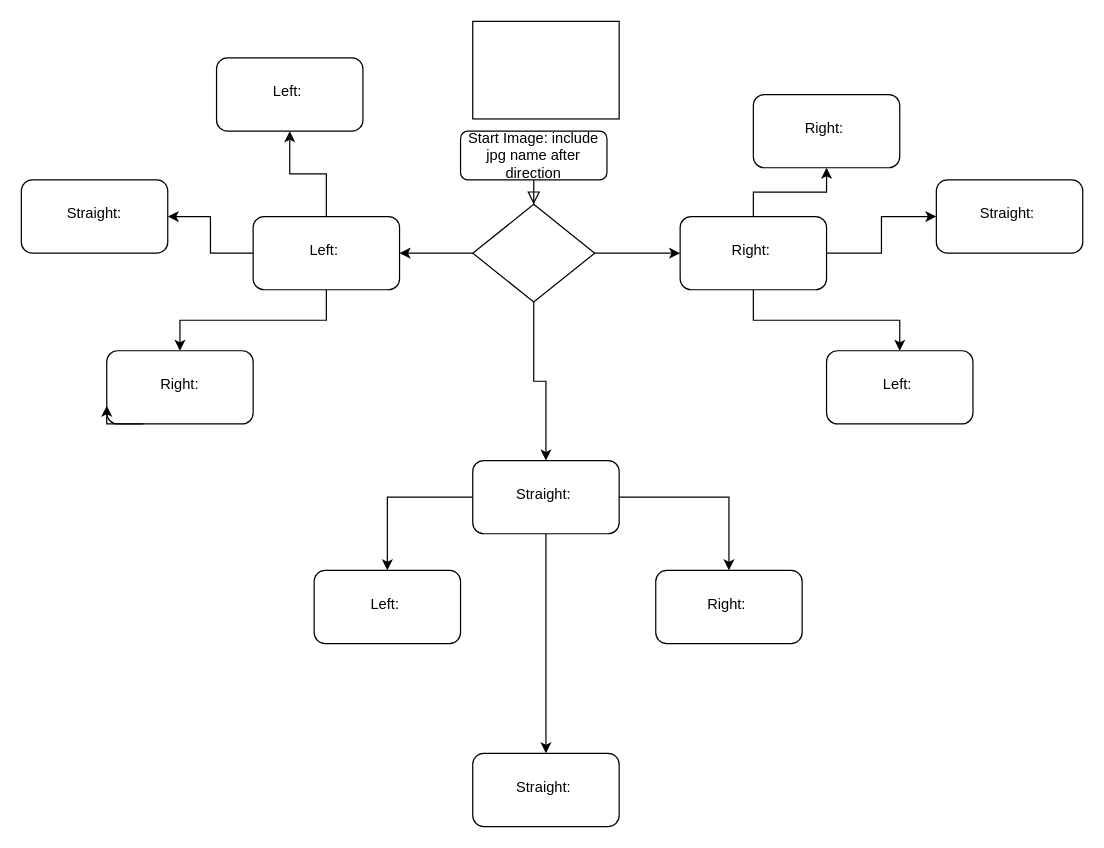
Some shapes in this 1104 by 848 pixel diagram are drawn without their labels. Here are the shapes that lost their labels. From the top down, the centre of each, then its label:
pixel 545 69: Pressing of the cry button at any point leads to the end screen: GameOVer.png
pixel 533 252: StartScreen.png
